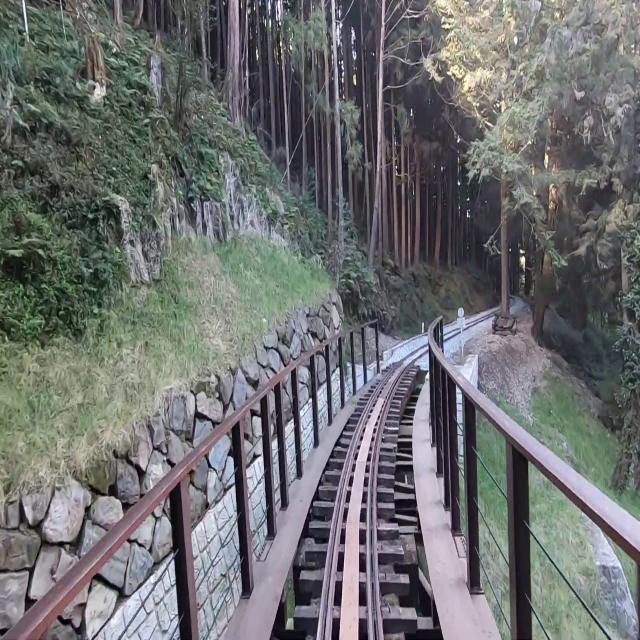rail-track: (321, 350, 421, 639)
